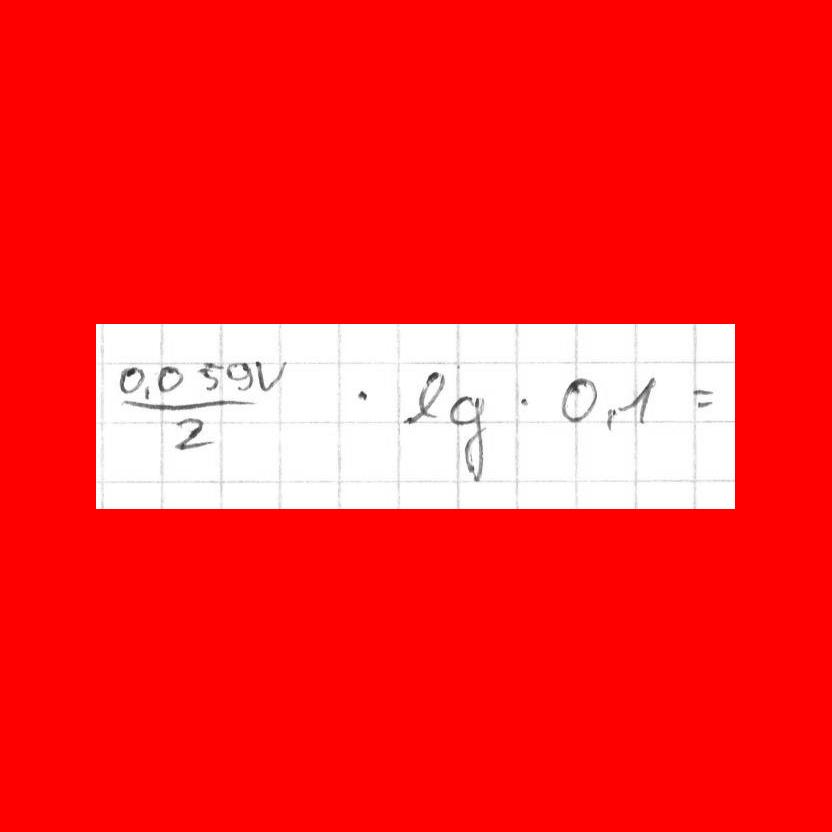Char: (447, 393, 491, 484), (400, 371, 448, 426), (617, 371, 659, 426), (115, 396, 256, 410), (560, 374, 598, 422), (170, 416, 222, 451), (255, 356, 288, 392), (223, 359, 254, 393), (117, 363, 144, 396), (198, 357, 223, 392), (156, 364, 184, 392), (690, 383, 718, 410), (602, 401, 618, 431), (351, 383, 370, 404), (517, 392, 536, 412), (141, 382, 152, 400)
